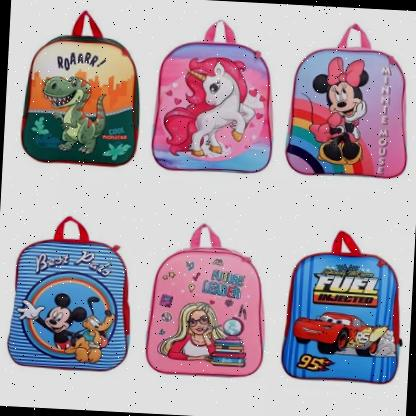bag: (3, 209, 140, 380), (147, 12, 283, 178), (274, 224, 412, 386), (16, 6, 148, 174), (282, 19, 416, 184), (142, 216, 272, 386)
